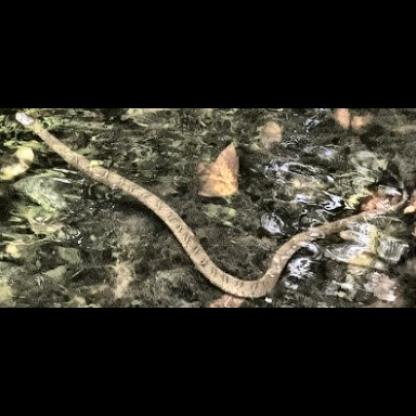Snake: (0, 116, 411, 314)
